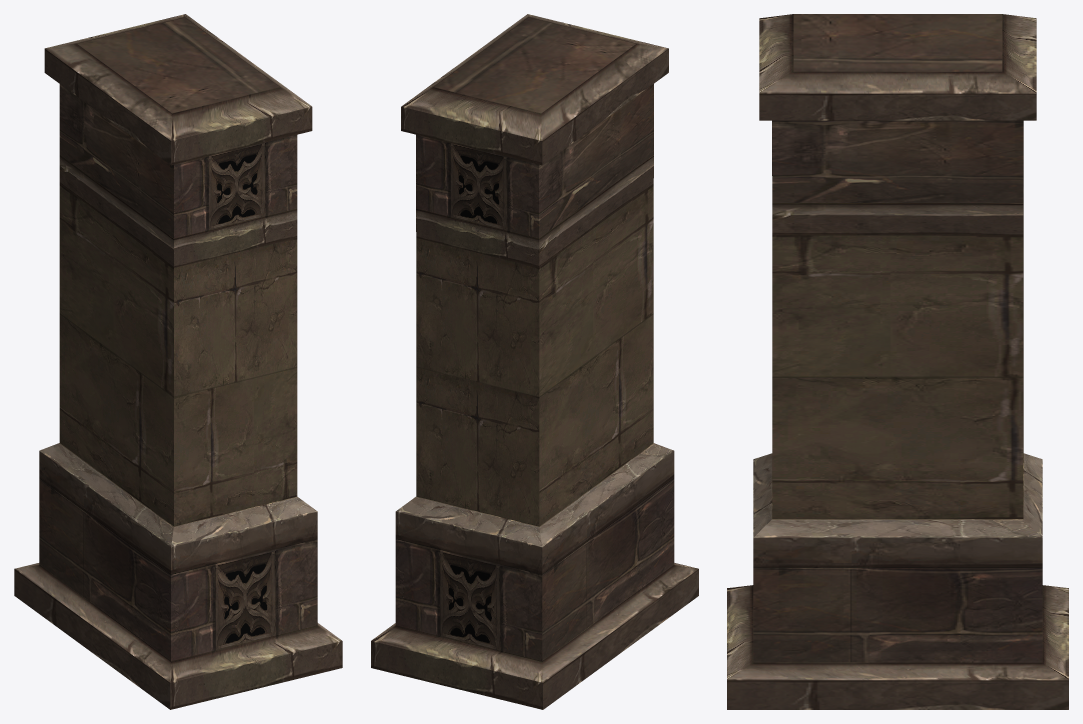
File: A03_pillar_e.FBX
The picture shows the model from 3 angles, left to right: view 1: azimuth 30°, elevation 25°; view 2: azimuth 150°, elevation 25°; view 3: azimuth 270°, elevation 25°; orthographic projection. The views are drawn at different scales.
Visible parts, largest first — view 1: A03_pillar_e; view 2: A03_pillar_e; view 3: A03_pillar_e.
Part boxes in pixels (bbox=[...]): A03_pillar_e: bbox=[14, 14, 342, 709]; A03_pillar_e: bbox=[371, 14, 698, 709]; A03_pillar_e: bbox=[727, 14, 1068, 709].
Bounding box in the file's own units: 1.58 × 4.96 × 2.47.
